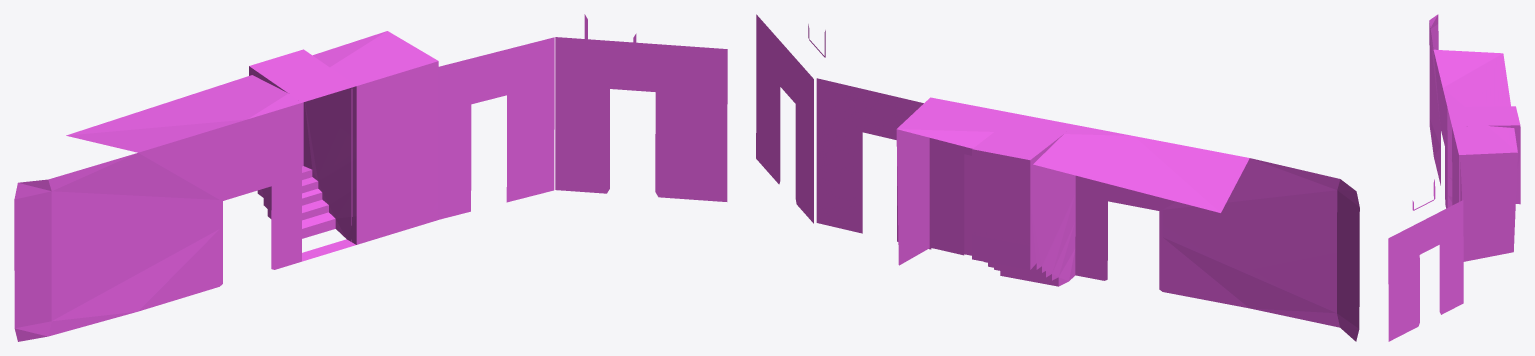
File: ICTCRoom.fbx
The picture shows the model from 3 angles, left to right: view 1: azimuth 30°, elevation 25°; view 2: azimuth 150°, elevation 25°; view 3: azimuth 270°, elevation 25°; orthographic projection. The views are drawn at different scales.
Visible parts, largest first — view 1: Cube.005; view 2: Cube.005; view 3: Cube.005.
Boxes of the visible parts, bbox=[...] form: Cube.005: bbox=[14, 14, 727, 341]; Cube.005: bbox=[756, 14, 1359, 341]; Cube.005: bbox=[1388, 14, 1520, 341].
Bounding box in the file's own units: 1159 × 315 × 290.
Materials: 2 (2 with a texture image).
